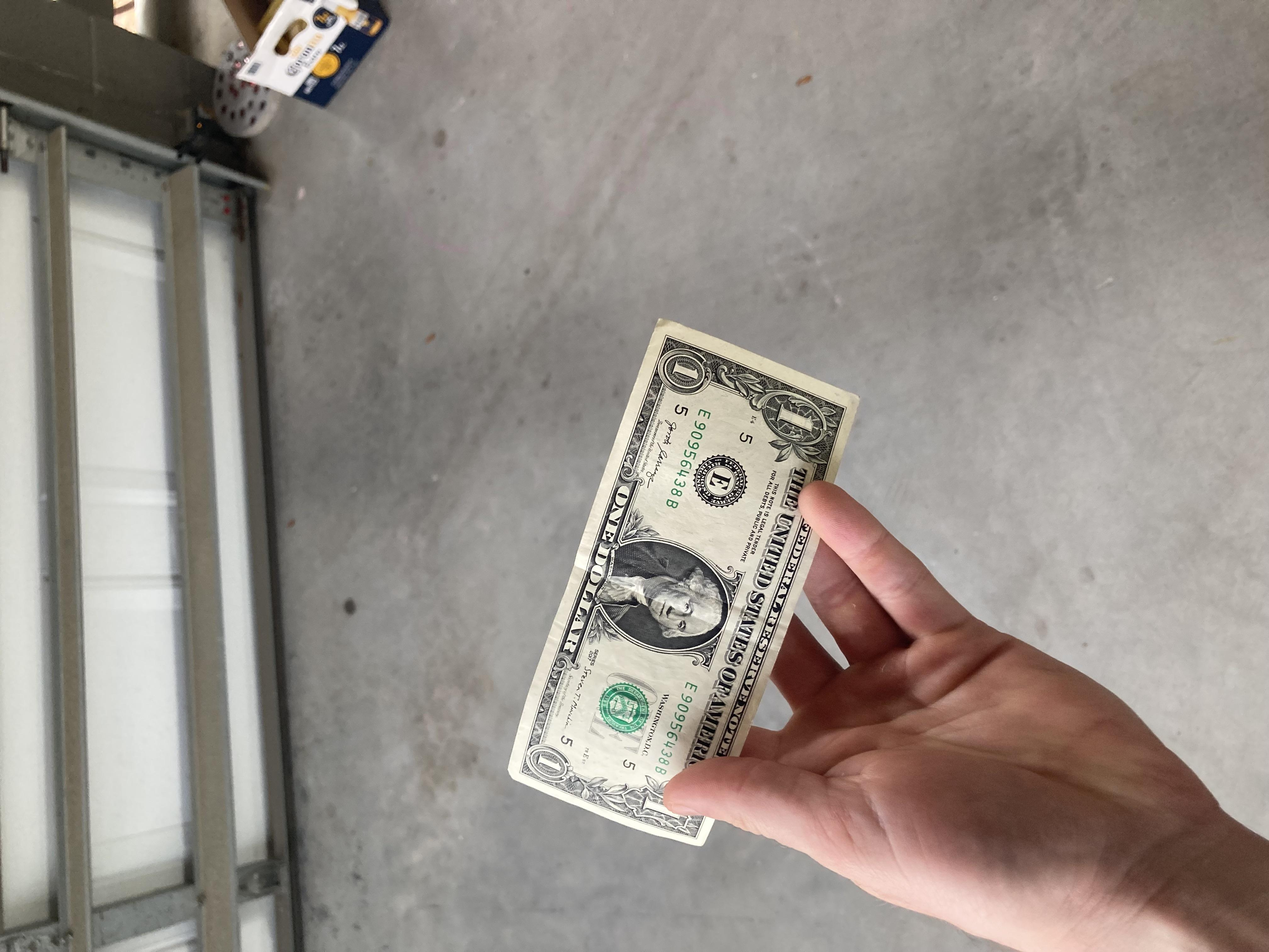one-front: (133, 376, 849, 652)
